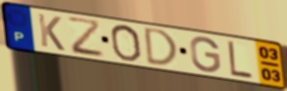D: (143, 26, 180, 68)
G: (188, 35, 222, 74)
K: (36, 12, 67, 53)
L: (226, 39, 255, 81)
O: (109, 24, 143, 63)
Z: (65, 16, 107, 59)
